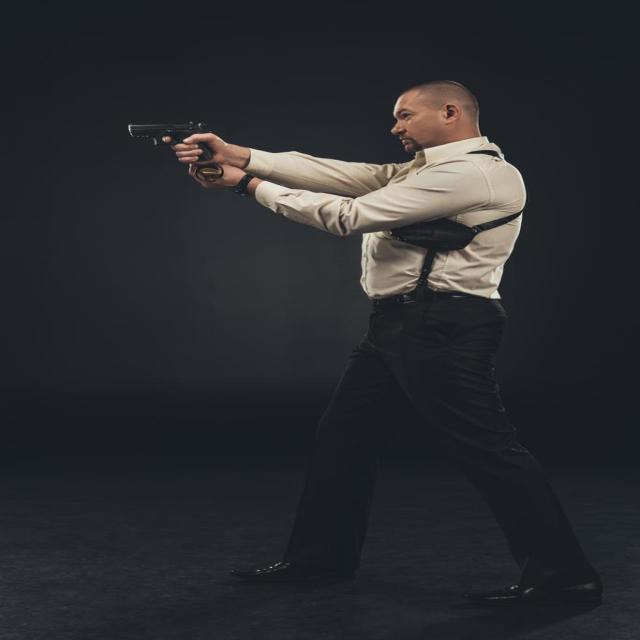HandGun: (122, 118, 226, 165)
